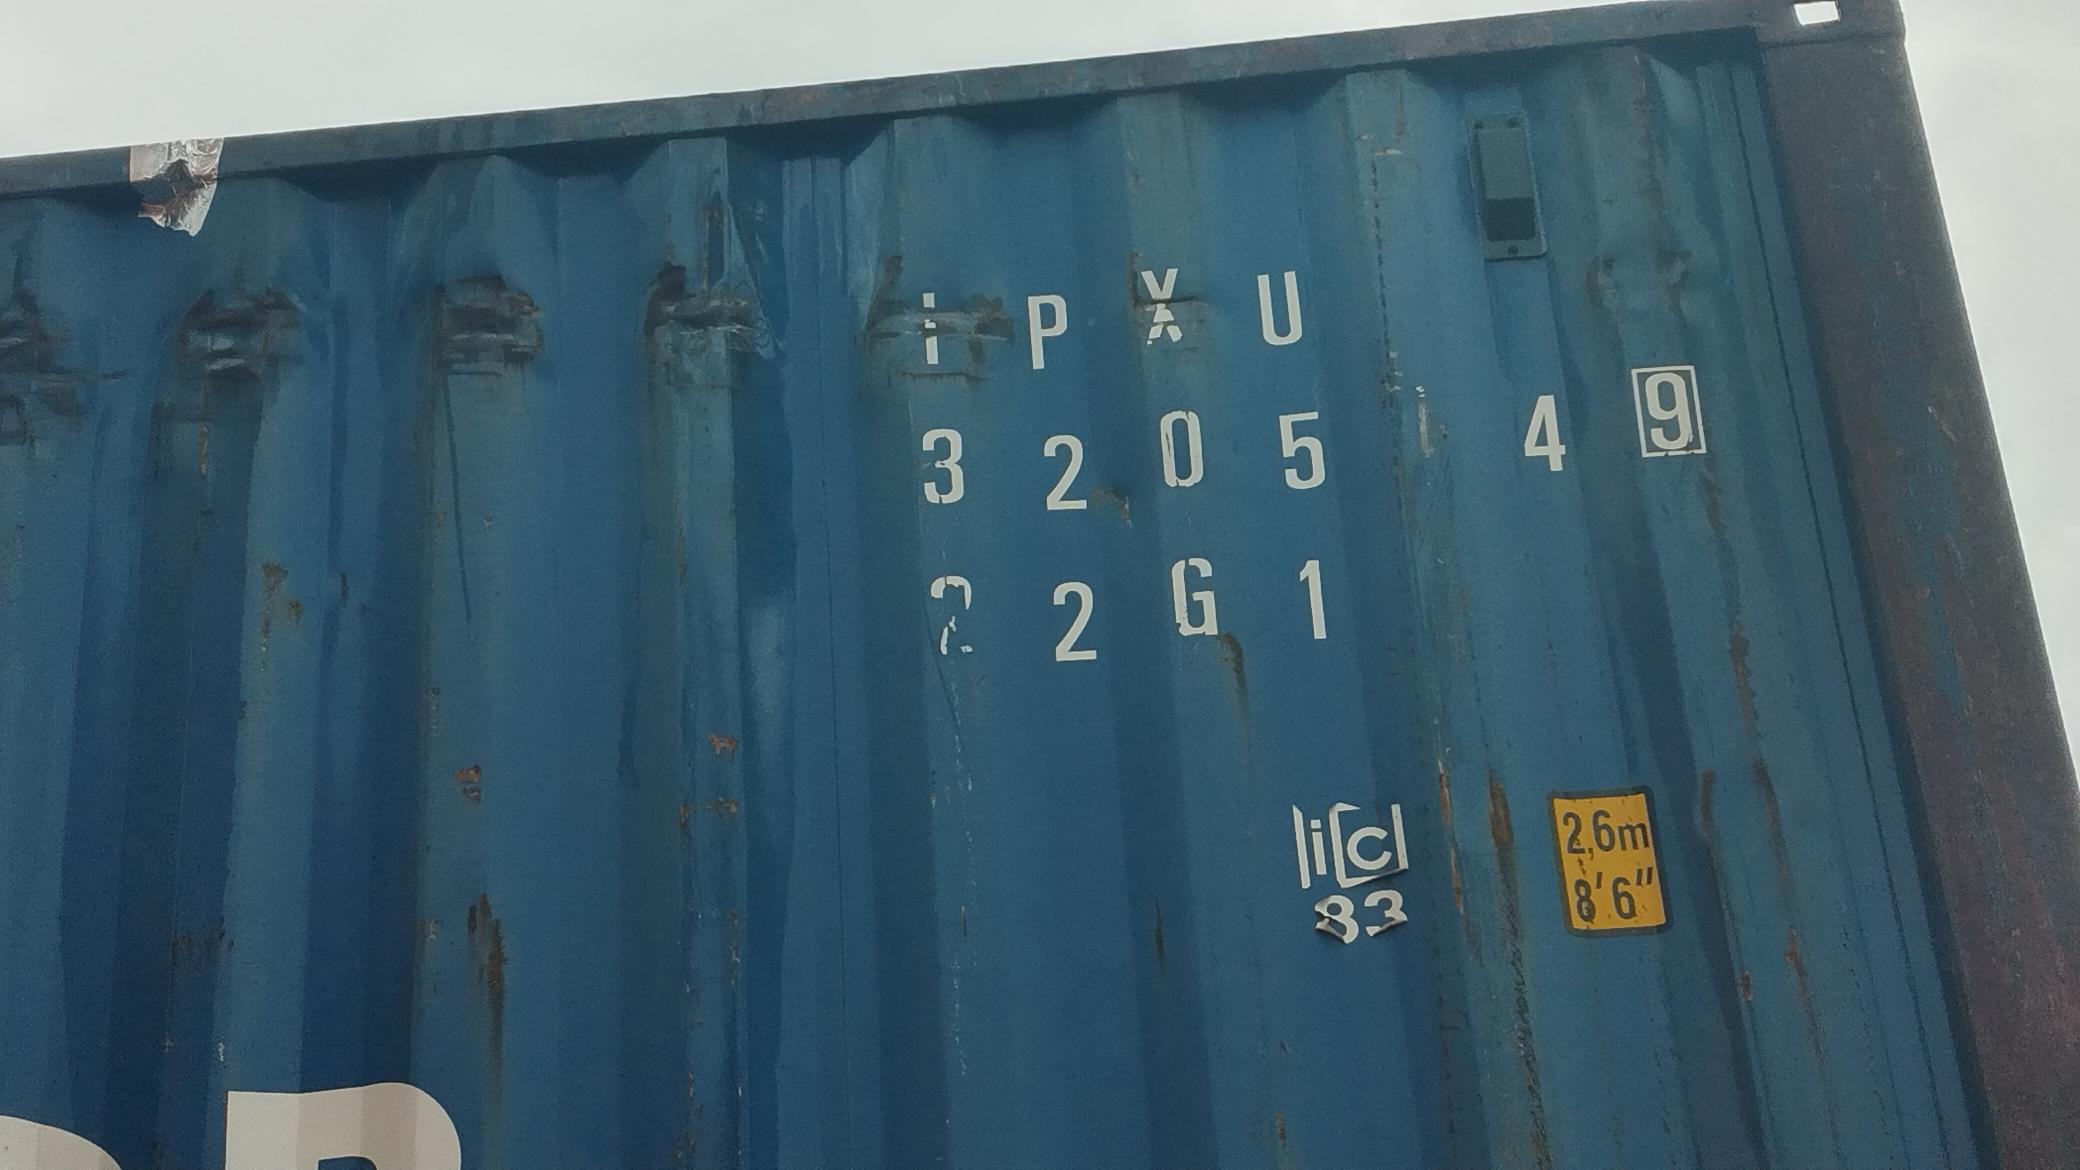dented: (1, 199, 1141, 437)
